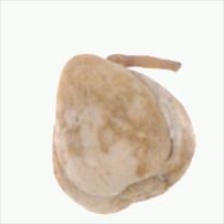L3: (87, 53, 143, 75)
L4: (53, 54, 196, 214)
